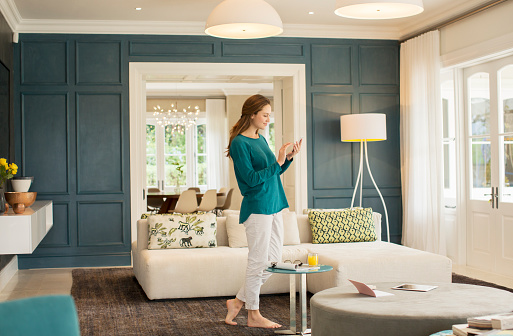em pe: (222, 91, 303, 306)
